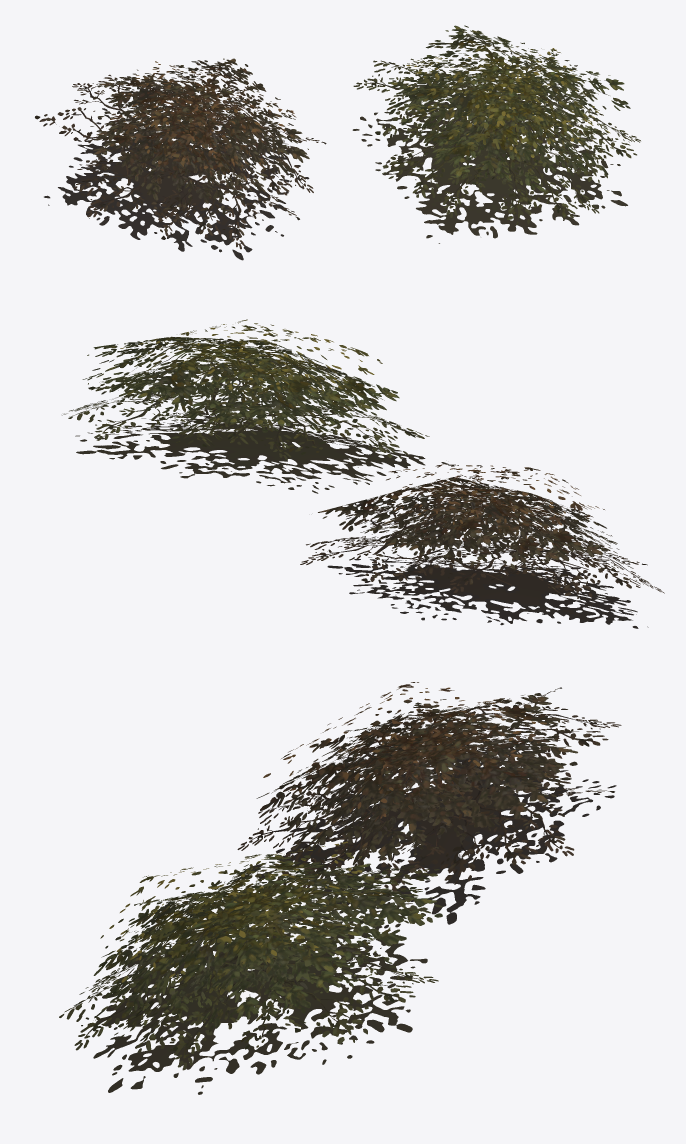
Rendered from plants_bushes14.fbx.
The picture shows the model from 3 angles, top to bottom: view 1: azimuth 30°, elevation 25°; view 2: azimuth 150°, elevation 25°; view 3: azimuth 270°, elevation 25°; orthographic projection. The views are drawn at different scales.
Visible parts, largest first — view 1: plants_bushes14-0; view 2: plants_bushes14-0; view 3: plants_bushes14-0.
Part boxes in pixels (x1=…): plants_bushes14-0: x1=35, y1=25, x2=640, y2=260; plants_bushes14-0: x1=62, y1=319, x2=664, y2=628; plants_bushes14-0: x1=59, y1=682, x2=621, y2=1094.
Bounding box in the file's own units: 10.22 × 2.39 × 7.35.
